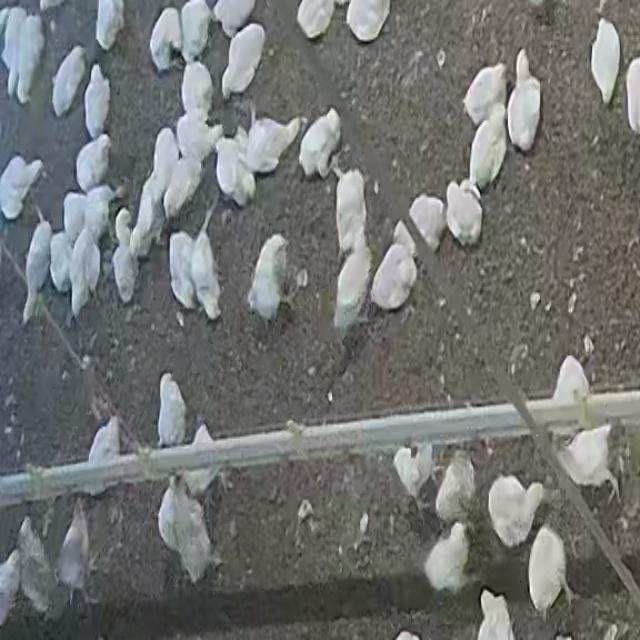chicken: (158, 477, 215, 584), (555, 418, 623, 503), (134, 132, 177, 232), (487, 476, 544, 548), (335, 229, 374, 334), (527, 526, 571, 618), (14, 516, 54, 617), (248, 233, 290, 326), (545, 354, 593, 434), (242, 114, 302, 176), (423, 522, 472, 594), (81, 414, 121, 499), (188, 221, 222, 320), (370, 240, 416, 312), (507, 49, 539, 151), (56, 504, 90, 599), (297, 108, 342, 179), (223, 24, 267, 96), (22, 219, 52, 324), (462, 61, 508, 127), (436, 453, 477, 526), (334, 166, 367, 256), (215, 136, 255, 208), (14, 13, 45, 103), (468, 114, 506, 187), (0, 154, 42, 220), (69, 224, 99, 316), (393, 431, 435, 495), (183, 428, 221, 498), (590, 19, 621, 103), (52, 47, 88, 118), (129, 183, 163, 258), (163, 154, 200, 222), (168, 231, 199, 311), (446, 181, 484, 245), (112, 210, 138, 303), (157, 372, 188, 447), (75, 132, 113, 193), (177, 110, 220, 162), (149, 7, 182, 73), (408, 194, 446, 251), (181, 60, 215, 120), (84, 62, 111, 136), (1, 7, 26, 82), (78, 185, 116, 234), (180, 0, 212, 58), (60, 192, 92, 242), (49, 230, 73, 296), (296, 0, 336, 39), (96, 0, 124, 49)
